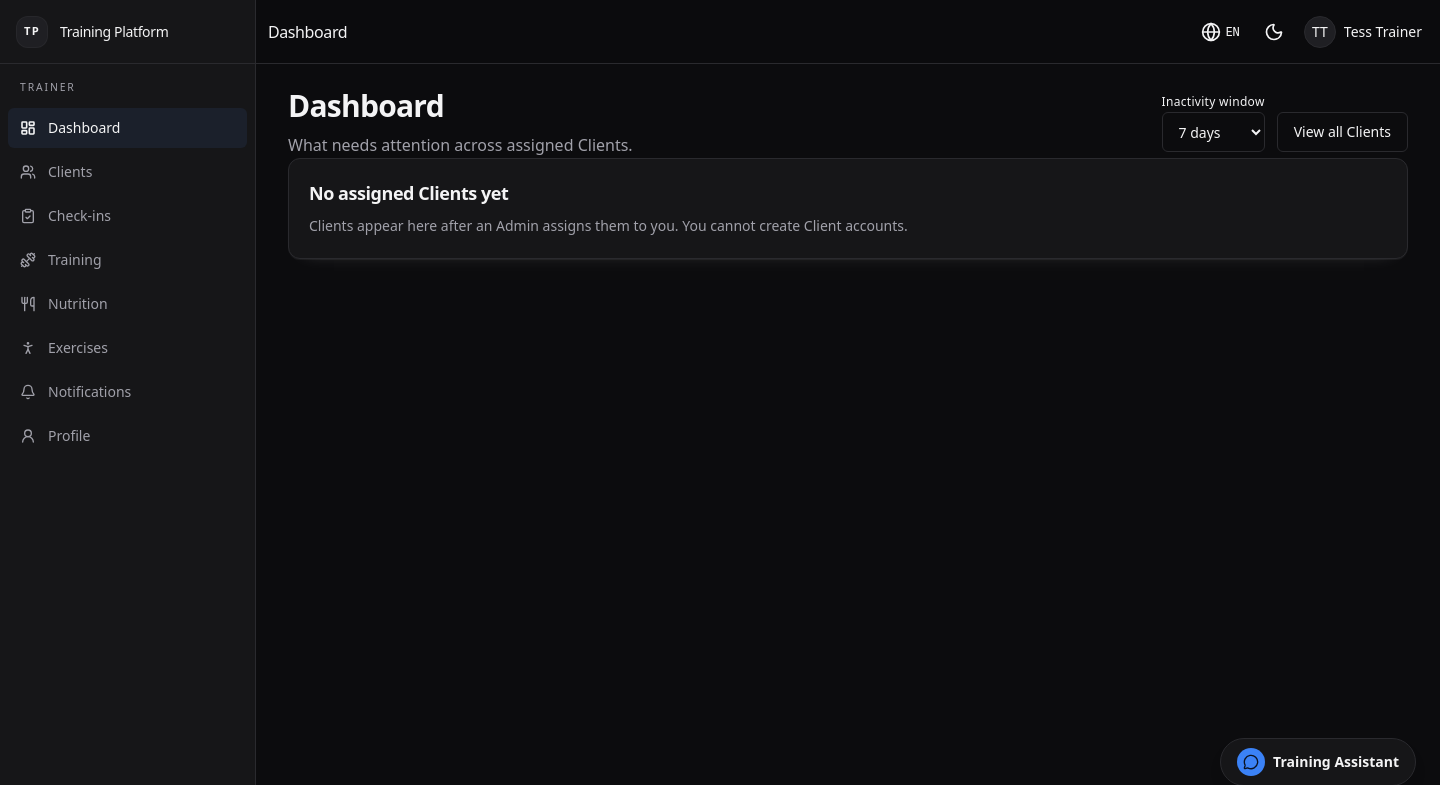
it: Trainer profile › is reachable from the sidebar and shows the read-only account
The width and height of the screenshot is (1440, 785).
Click the link "Profile" at coordinates (55, 435), box left=20, top=426, right=90, bottom=445
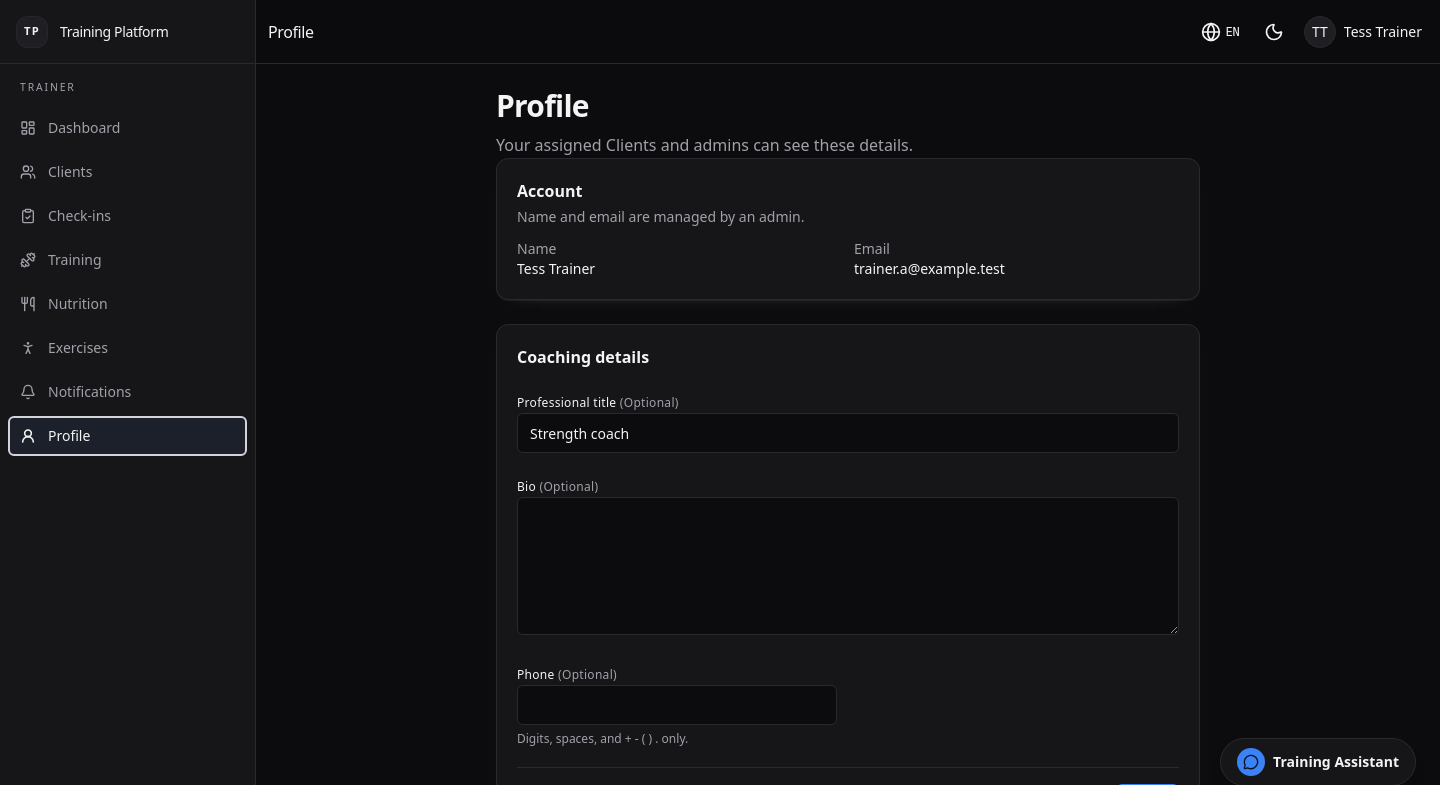
Check: the heading "Profile" is shown, box left=496, top=85, right=589, bottom=126
Check: the text "trainer.a@example.test" is shown, box left=854, top=259, right=1005, bottom=278
Check: the field labelled "Professional title (Optional)" holds "Strength coach", box left=517, top=413, right=1179, bottom=453
